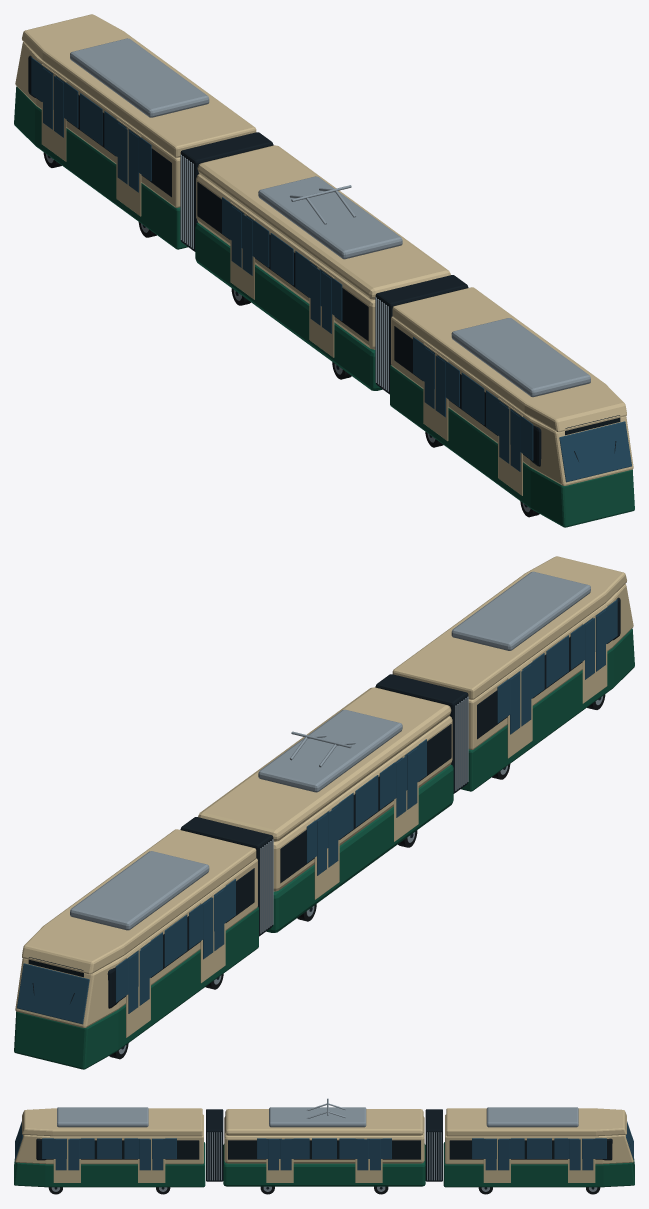
File: tram.glb
3 views of the same model, one above another, from view 1: azimuth 30°, elevation 25°; view 2: azimuth 150°, elevation 25°; view 3: azimuth 270°, elevation 25° (orthographic). The views are drawn at different scales.
Visible parts, largest first — view 1: tram_body, tram_metal, tram_glass; view 2: tram_body, tram_metal, tram_glass; view 3: tram_body, tram_glass, tram_metal.
Boxes of the visible parts, x1,y1,x2,y2 form: tram_body: [14, 14, 634, 527]; tram_metal: [46, 38, 616, 512]; tram_glass: [31, 57, 631, 482]; tram_body: [14, 556, 634, 1069]; tram_metal: [32, 571, 602, 1054]; tram_glass: [17, 599, 617, 1024]; tram_body: [14, 1108, 634, 1194]; tram_glass: [15, 1121, 633, 1170]; tram_metal: [18, 1098, 630, 1191].
Bounding box in the file's own units: 2.49 × 3.83 × 27.59.
